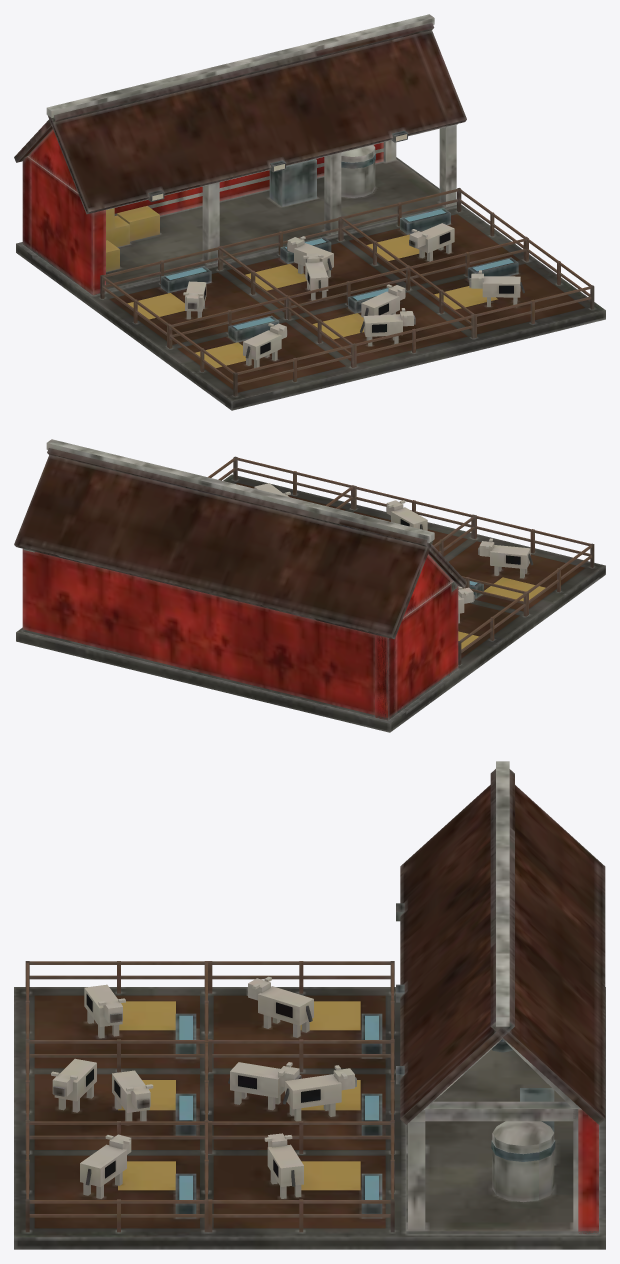
File: cattle_farm.glb
3 renders of one model, top to bottom at view 1: azimuth 30°, elevation 25°; view 2: azimuth 150°, elevation 25°; view 3: azimuth 270°, elevation 25°, orthographic. The views are drawn at different scales.
Visible parts, largest first — view 1: te_cattle_farm; view 2: te_cattle_farm; view 3: te_cattle_farm.
Boxes of the visible parts, x1,y1,x2,y2 form: te_cattle_farm: (14,14,605,410); te_cattle_farm: (14,439,605,732); te_cattle_farm: (14,761,605,1249).
Size of the model in its own units: 1.76 by 0.755 by 1.72.
Materials: 1 (1 with a texture image).
